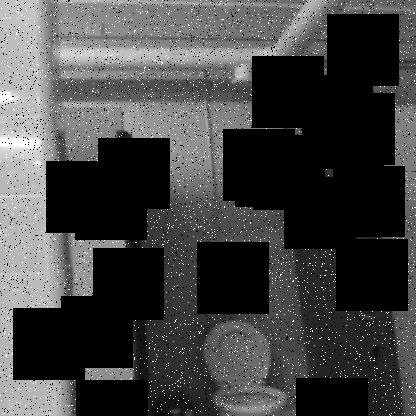Porte: (112, 78, 408, 415)
